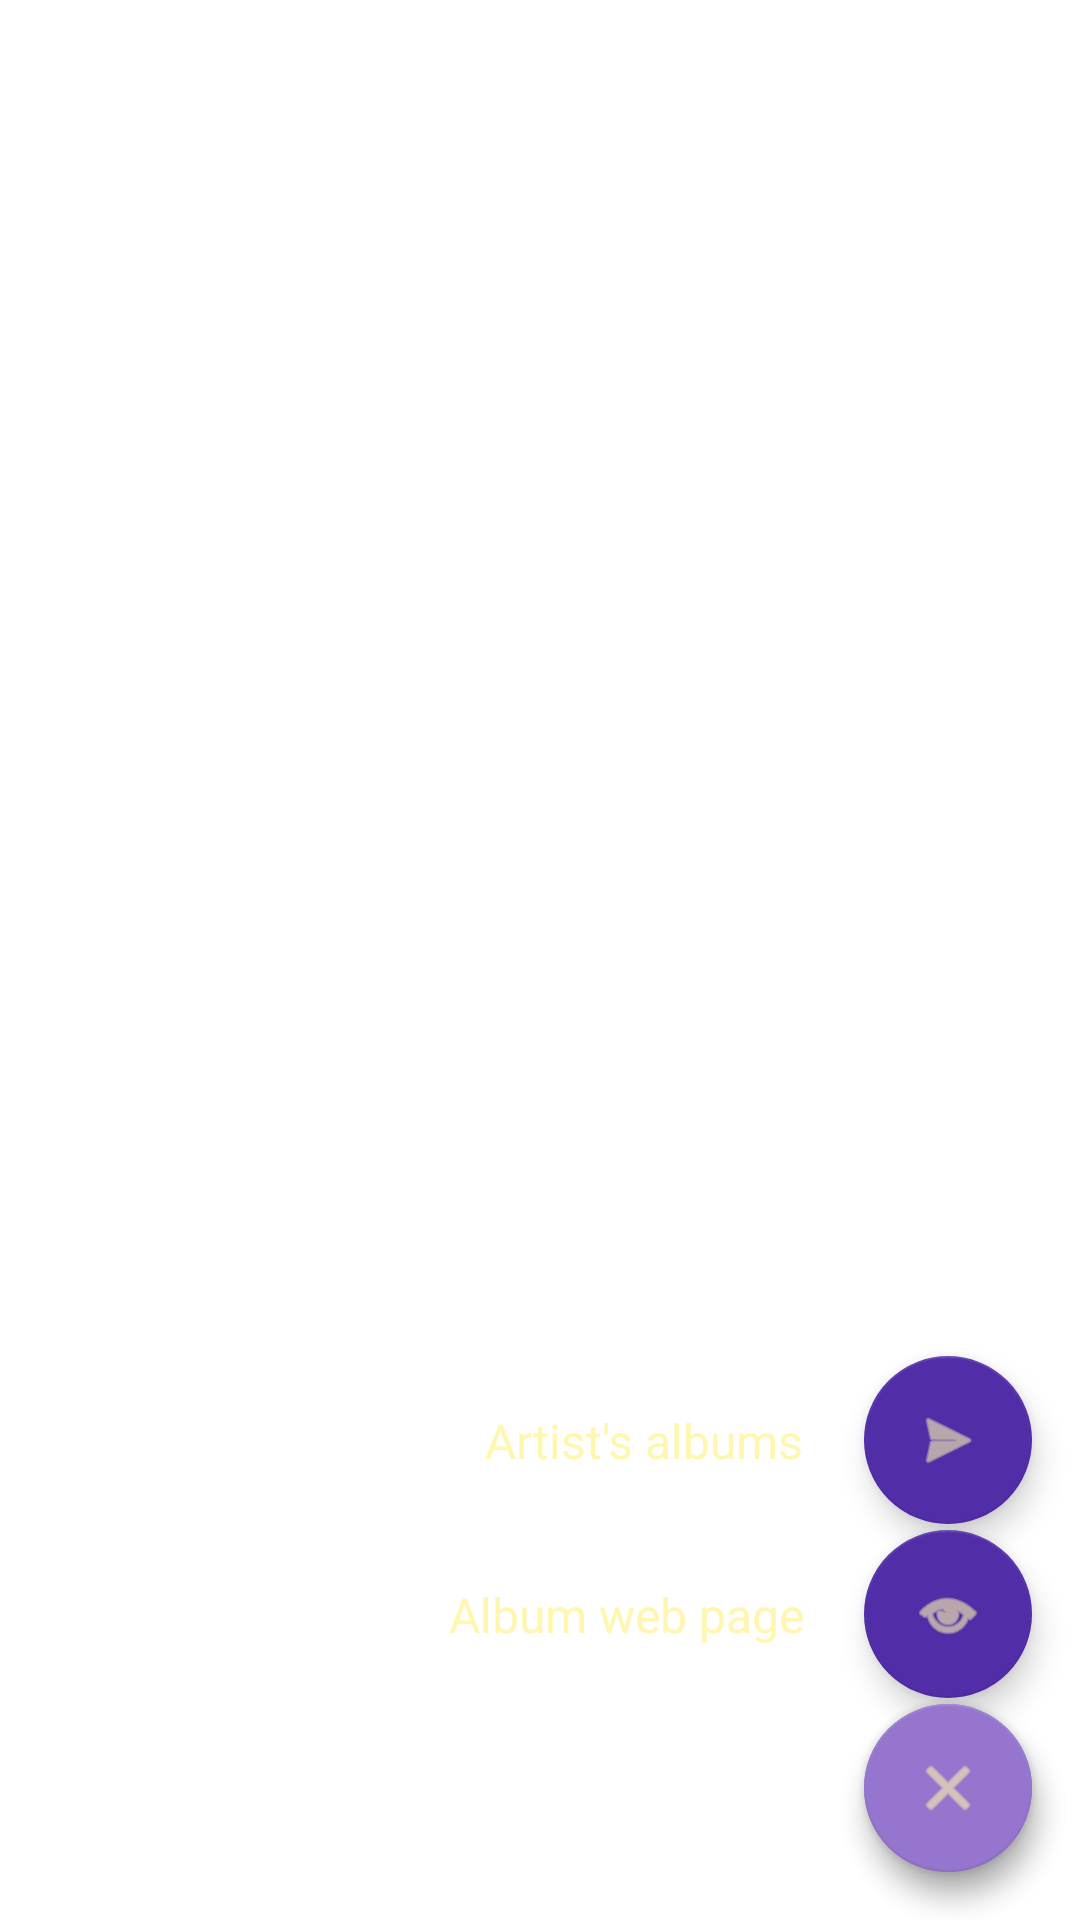

Where icons sit on this 1080×1920 app screen, as (x1, y1, x2, y2):
send: (864, 1356, 1032, 1524)
view: (864, 1530, 1032, 1698)
